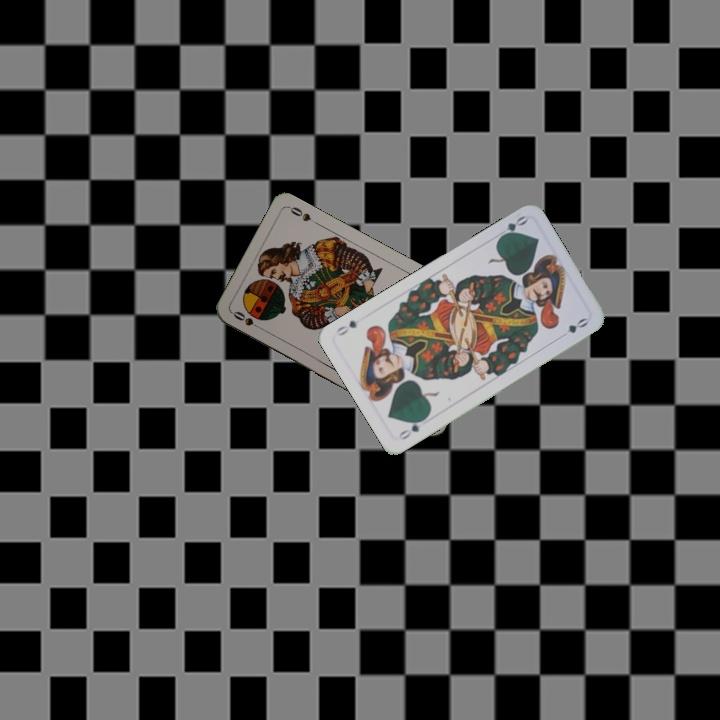GO: (492, 211, 530, 242), (394, 413, 429, 442)
SO: (229, 307, 266, 333)
